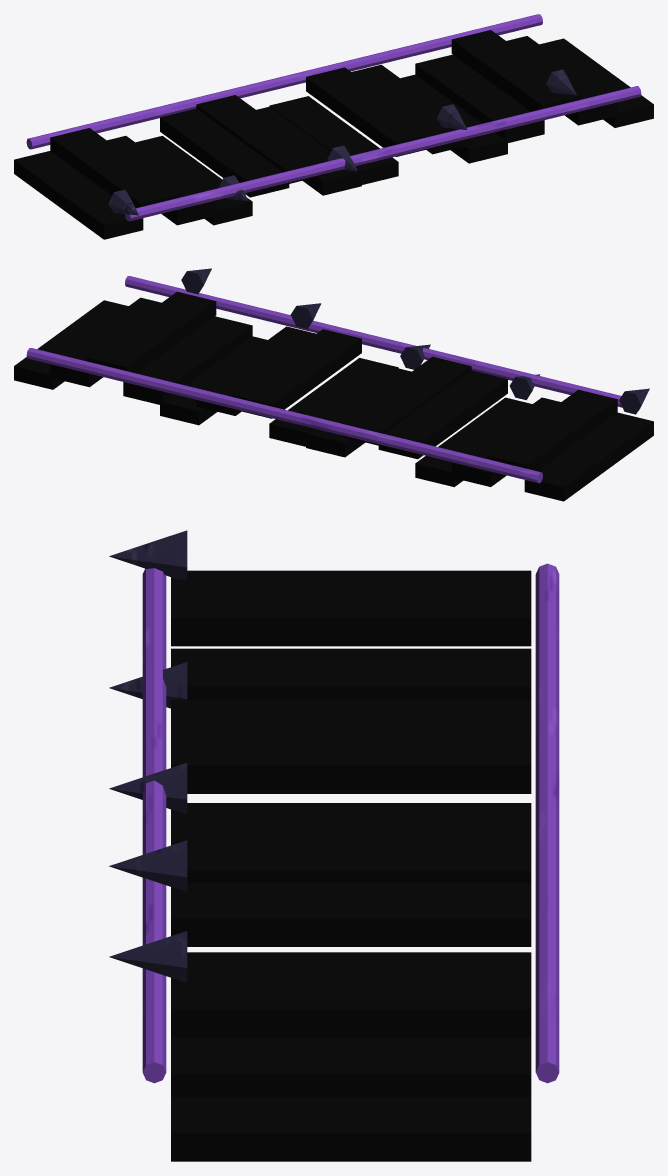
Rendered from fractured_bridge.obj.
3 renders of one model, top to bottom at view 1: azimuth 30°, elevation 25°; view 2: azimuth 150°, elevation 25°; view 3: azimuth 270°, elevation 25°, orthographic. The views are drawn at different scales.
Size of the model in its own units: 19.38 by 2.27 by 6.88.
1 material, 1 textured.
